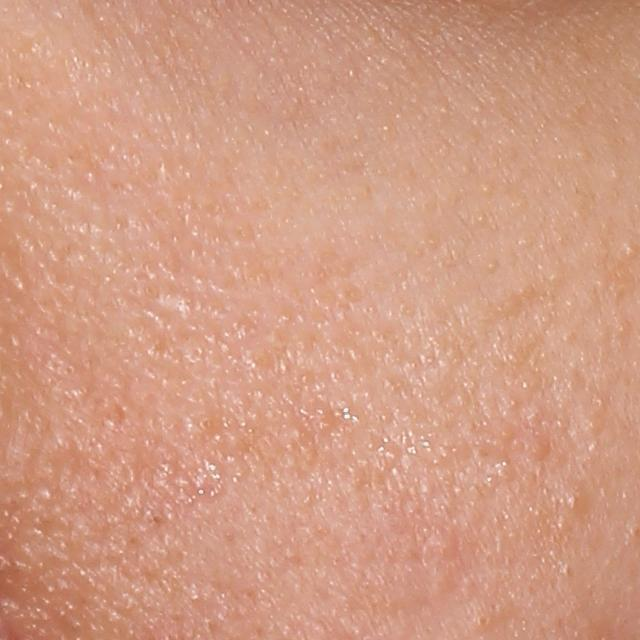comedo: (559, 490, 588, 516), (468, 610, 495, 633), (198, 412, 216, 433), (621, 242, 638, 260)
